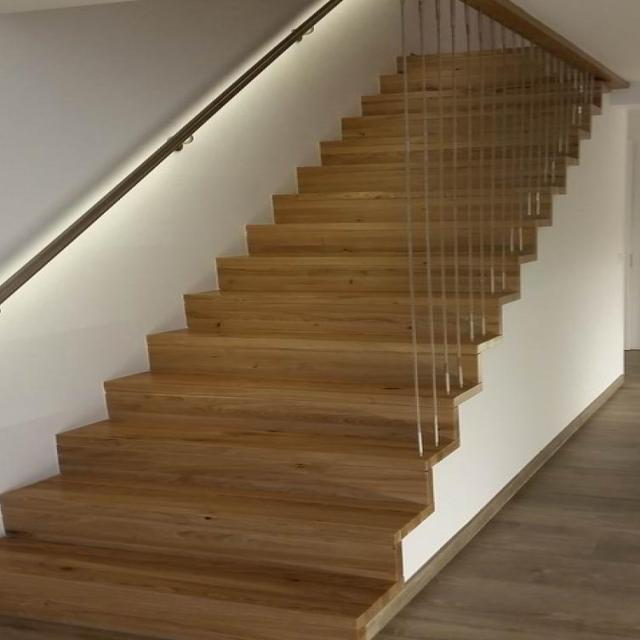Stairs: (62, 28, 526, 621)
